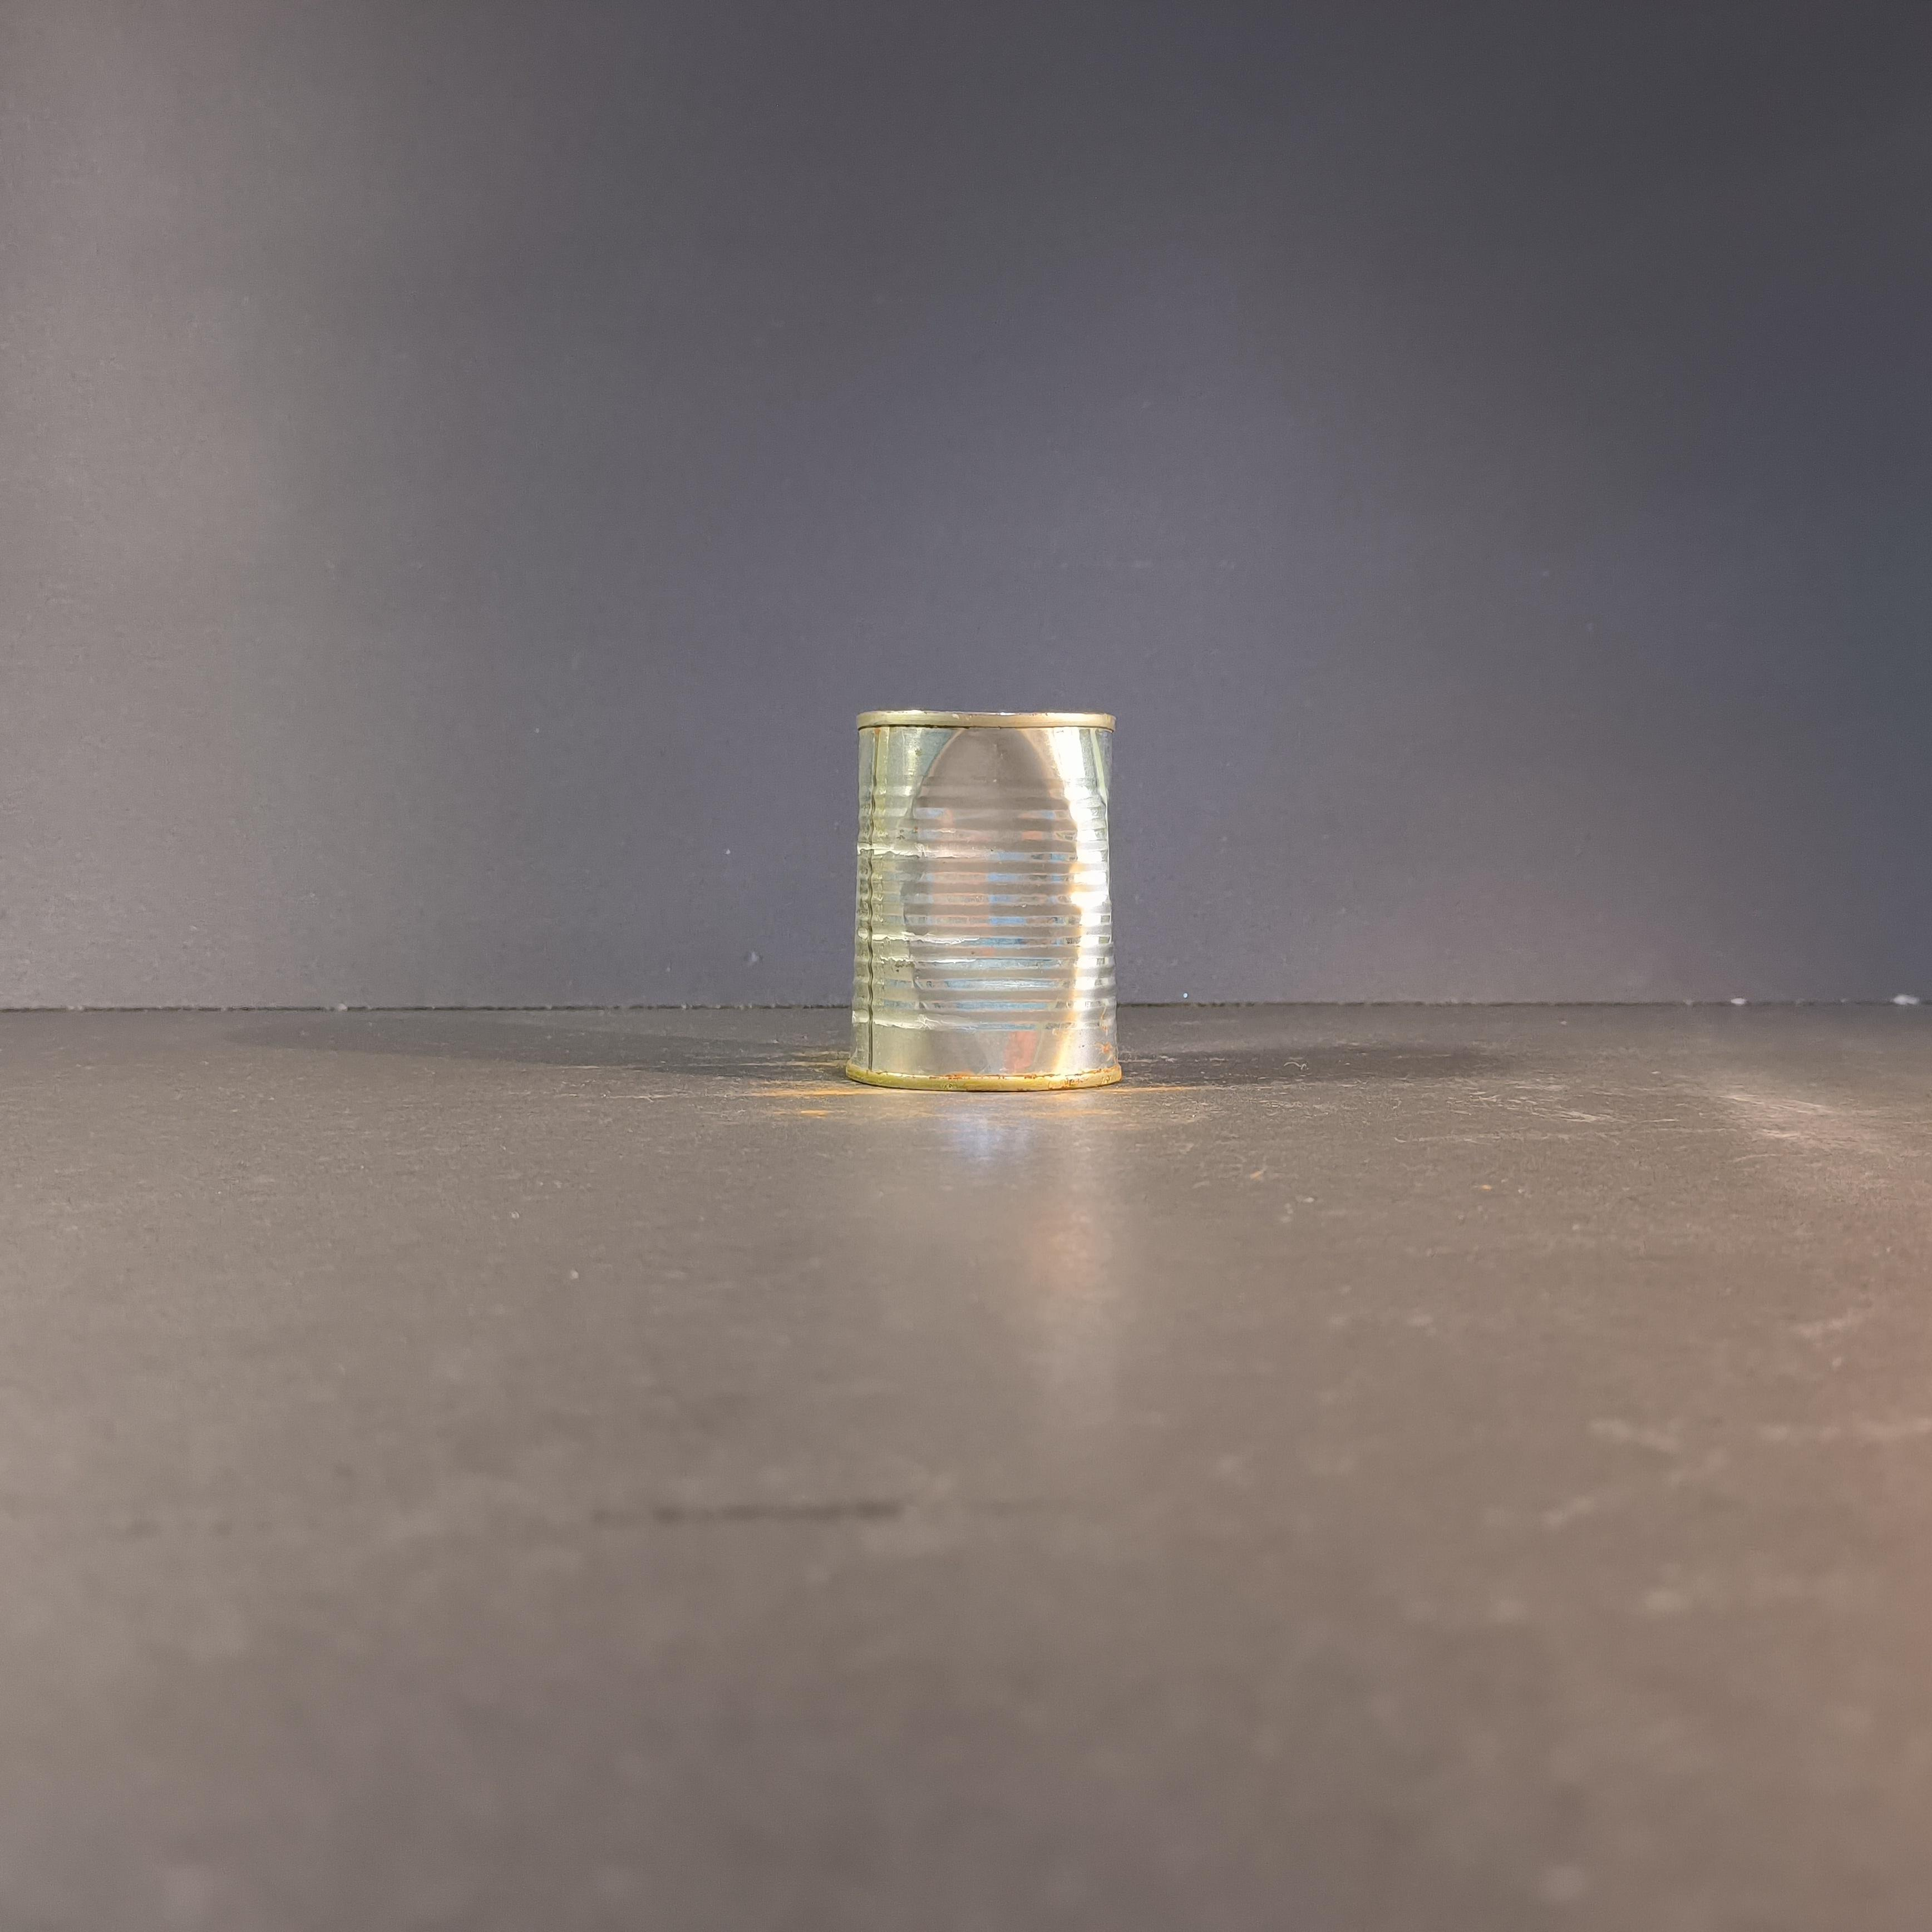Dented: (835, 681, 1152, 1122)
